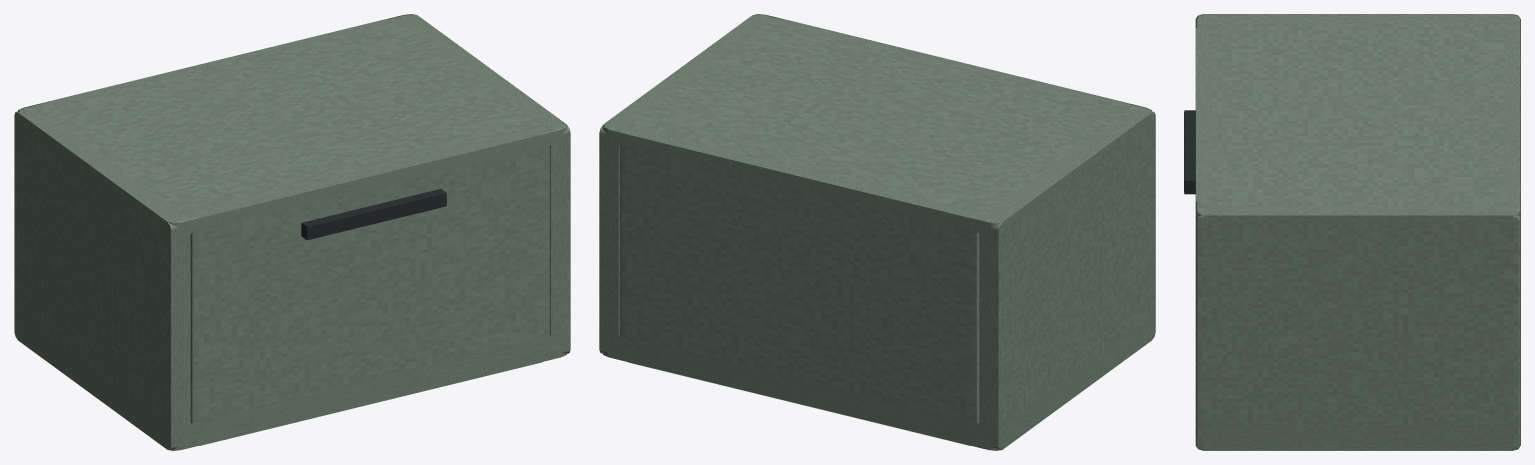
File: earplug-case.glb
3 views of the same model, side by side, from view 1: azimuth 30°, elevation 25°; view 2: azimuth 150°, elevation 25°; view 3: azimuth 270°, elevation 25° (orthographic). The views are drawn at different scales.
Visible parts, largest first — view 1: edge (×2), lid, side (×2), bottom, grip; view 2: edge (×2), lid, side (×2), bottom; view 3: side (×2), lid, bottom, edge (×2), grip.
Part boxes in pixels (box(x1,y1,x2,y2)): edge (×2): box(42, 19, 550, 445); lid: box(17, 14, 567, 235); side (×2): box(14, 15, 570, 450); bottom: box(17, 316, 566, 450); grip: box(301, 189, 446, 239); edge (×2): box(619, 19, 1127, 445); lid: box(602, 14, 1152, 235); side (×2): box(599, 15, 1155, 450); bottom: box(603, 316, 1152, 450); side (×2): box(1195, 14, 1520, 450); lid: box(1195, 14, 1520, 229); bottom: box(1196, 426, 1520, 450); edge (×2): box(1196, 28, 1520, 201); grip: box(1184, 110, 1195, 194).
Bounding box in the file's own units: 0.066 × 0.036 × 0.0466.
2 materials, 2 textured.
